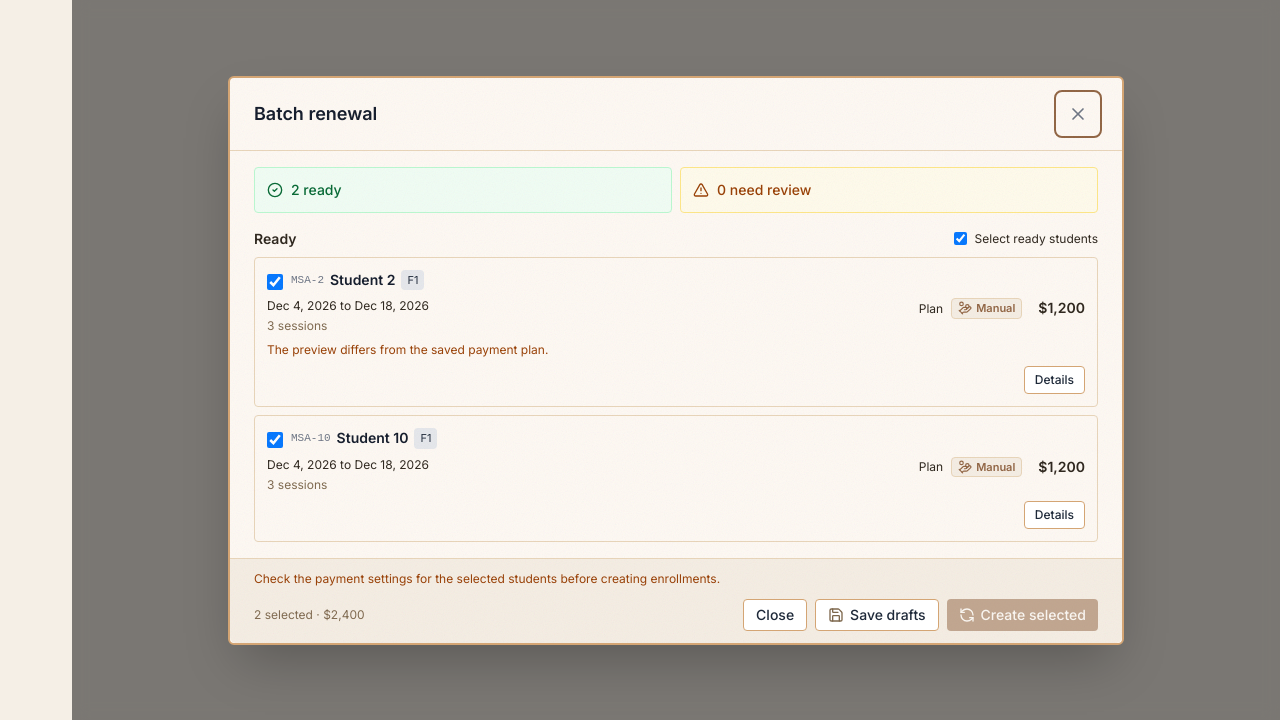
Test: batch renewal comparison › blocks creation for a selected preference mismatch without silently skipping that student
Check: the dialog is shown, box [228,76,1124,644]
Check: the button "Save drafts" is enabled, box [815,598,939,630]
Click the checkbox named "Select Student 2" at (275, 282), box [267,274,283,290]
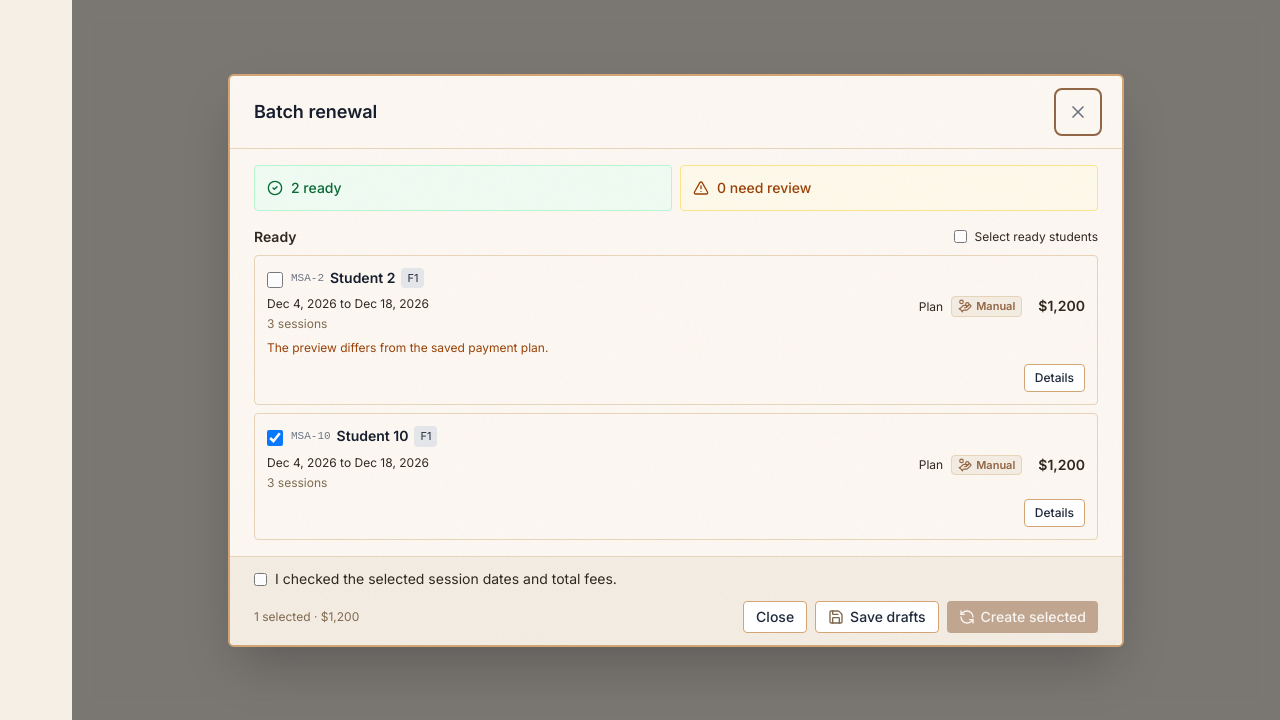
Click the checkbox labelled "I checked the selected session dates and total fees." at (260, 579), box [254,572,267,586]
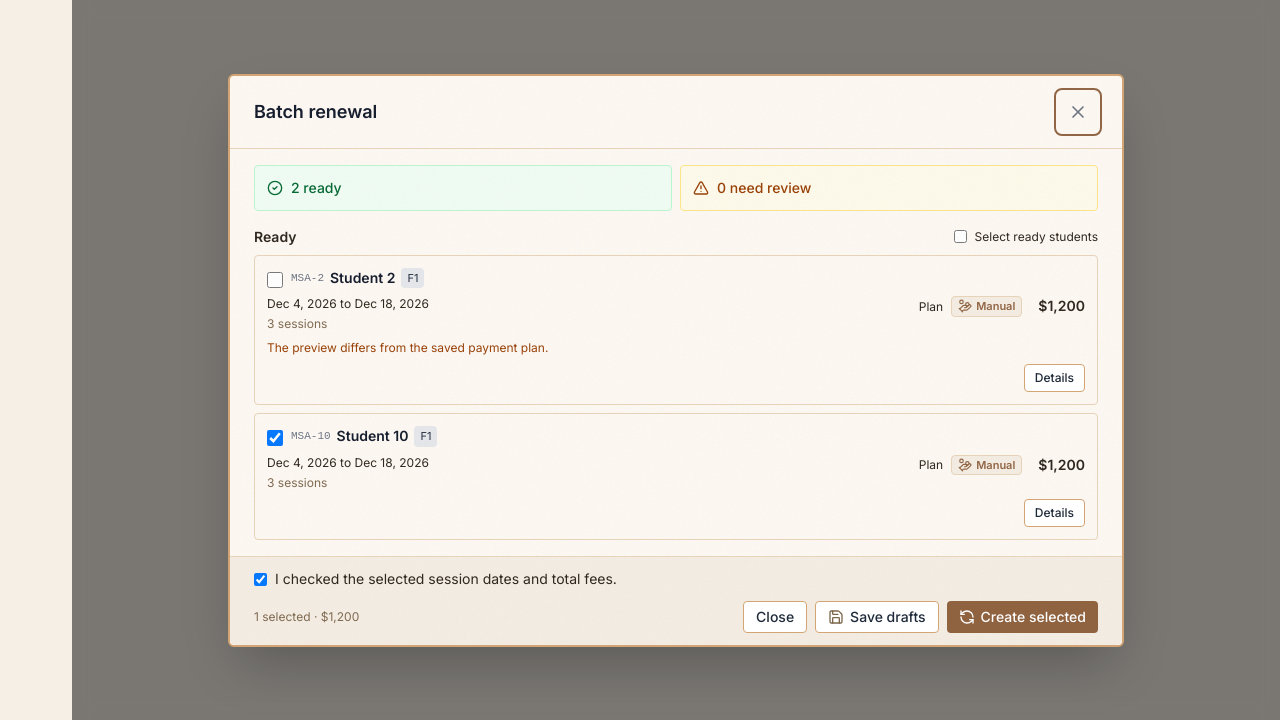
Click the button "Create selected" at (1022, 616), box [947,600,1098,632]
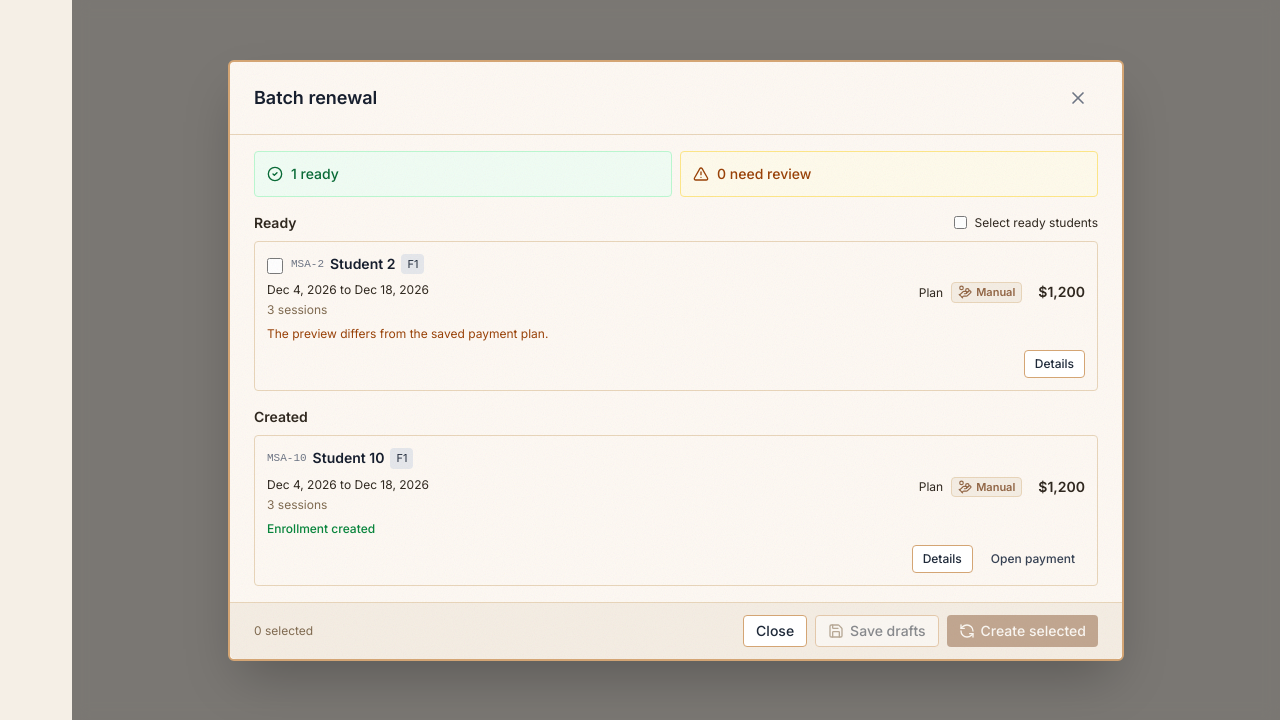
Check: the element named "Created renewals" is shown, box [254,407,1098,586]
